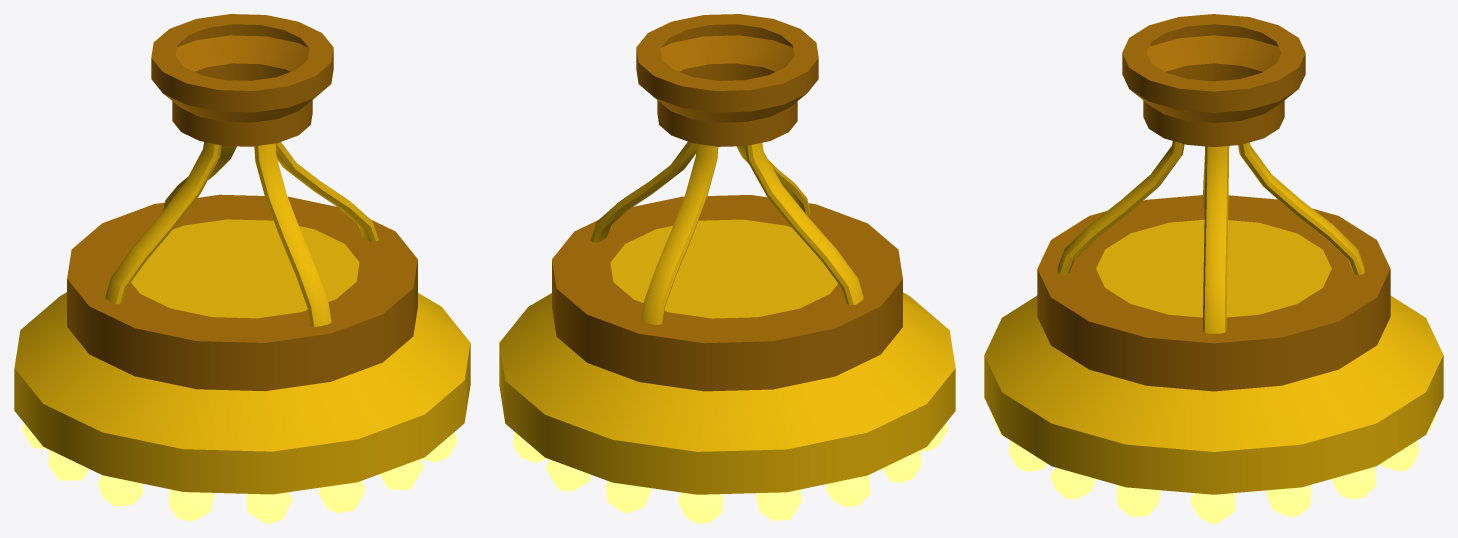
Rendered from Light1.fbx.
3 renders of one model, left to right at view 1: azimuth 30°, elevation 25°; view 2: azimuth 150°, elevation 25°; view 3: azimuth 270°, elevation 25°, orthographic.
Visible parts, largest first — view 1: Cylinder, Cylinder.001, Sphere, BézierCurve, BézierCurve.001; view 2: Cylinder, Cylinder.001, Sphere, BézierCurve, BézierCurve.001; view 3: Cylinder, Cylinder.001, Sphere, BézierCurve.001, BézierCurve.
Part boxes in pixels (bbox=[...]): Cylinder: bbox=[14, 194, 470, 494]; Cylinder.001: bbox=[151, 14, 333, 146]; Sphere: bbox=[21, 423, 457, 523]; BézierCurve: bbox=[105, 142, 378, 304]; BézierCurve.001: bbox=[163, 143, 331, 326]; Cylinder: bbox=[499, 195, 955, 494]; Cylinder.001: bbox=[636, 14, 818, 146]; Sphere: bbox=[513, 423, 948, 523]; BézierCurve: bbox=[590, 141, 863, 304]; BézierCurve.001: bbox=[641, 144, 810, 324]; Cylinder: bbox=[984, 195, 1443, 494]; Cylinder.001: bbox=[1122, 14, 1305, 146]; Sphere: bbox=[991, 415, 1436, 523]; BézierCurve.001: bbox=[1057, 141, 1364, 274]; BézierCurve: bbox=[1203, 146, 1229, 333].
Bounding box in the file's own units: 3.89 × 3.6 × 3.89.
